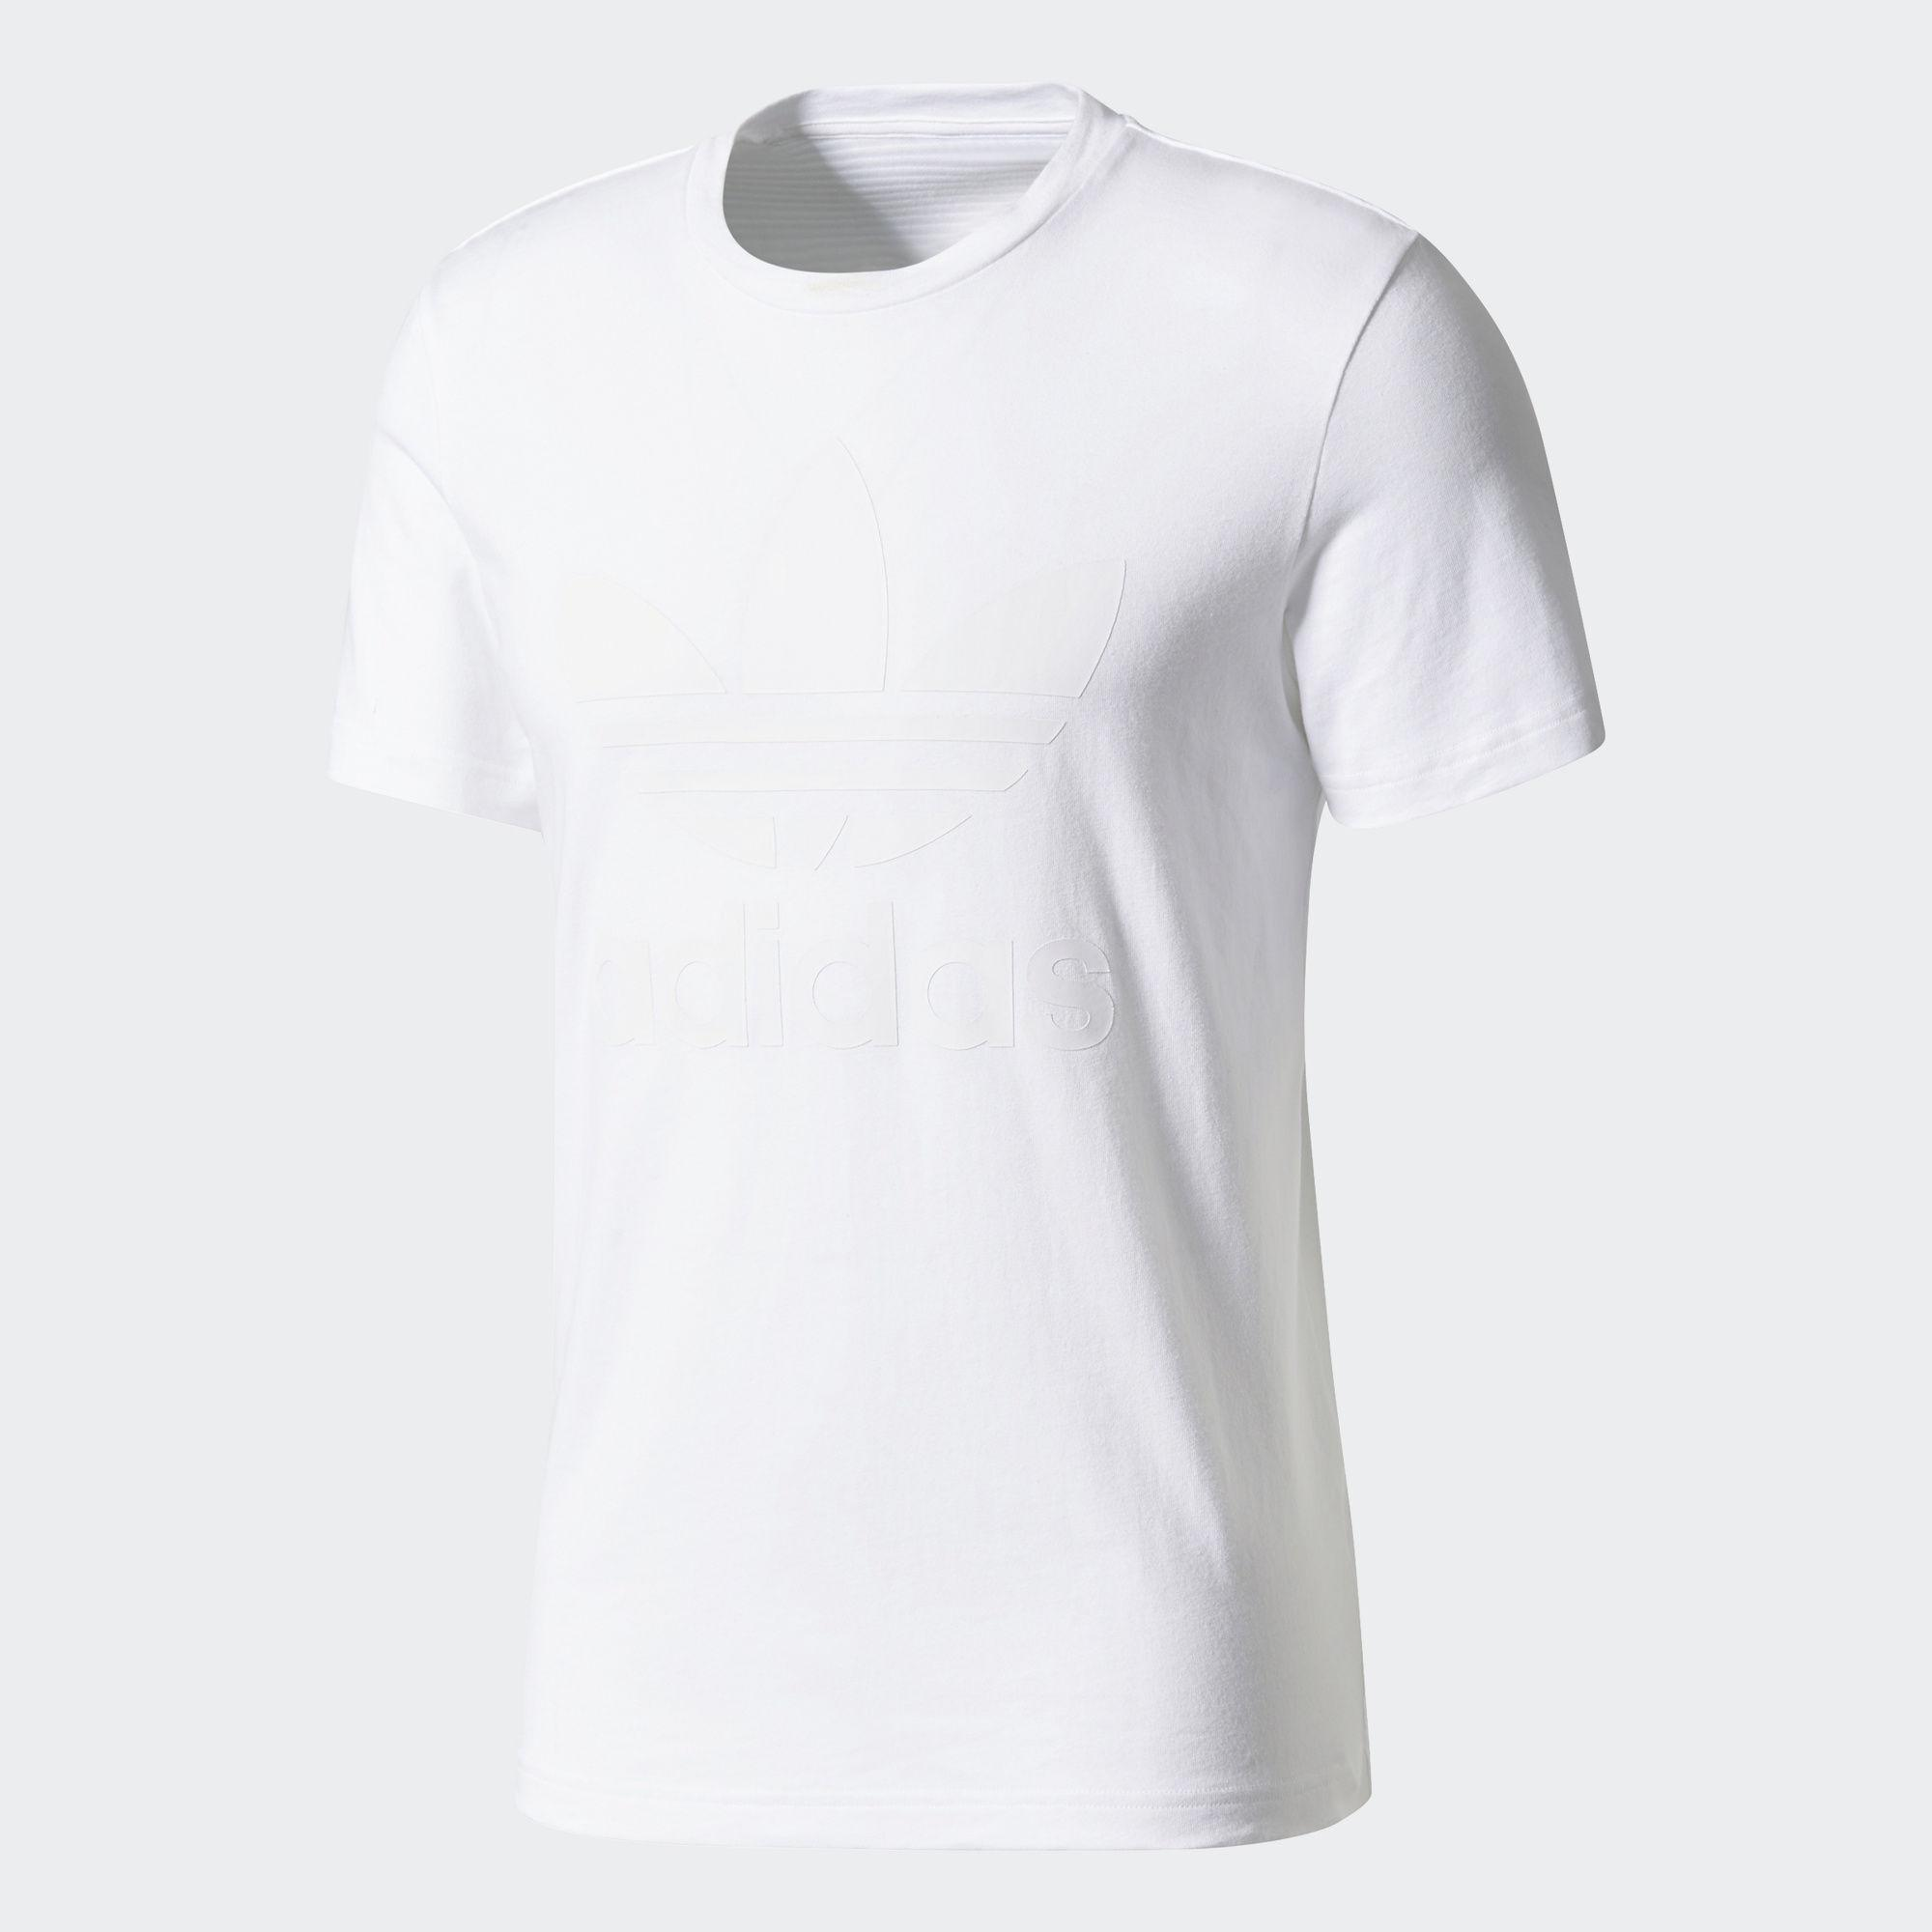teeshirt: (379, 51, 1649, 1893)
